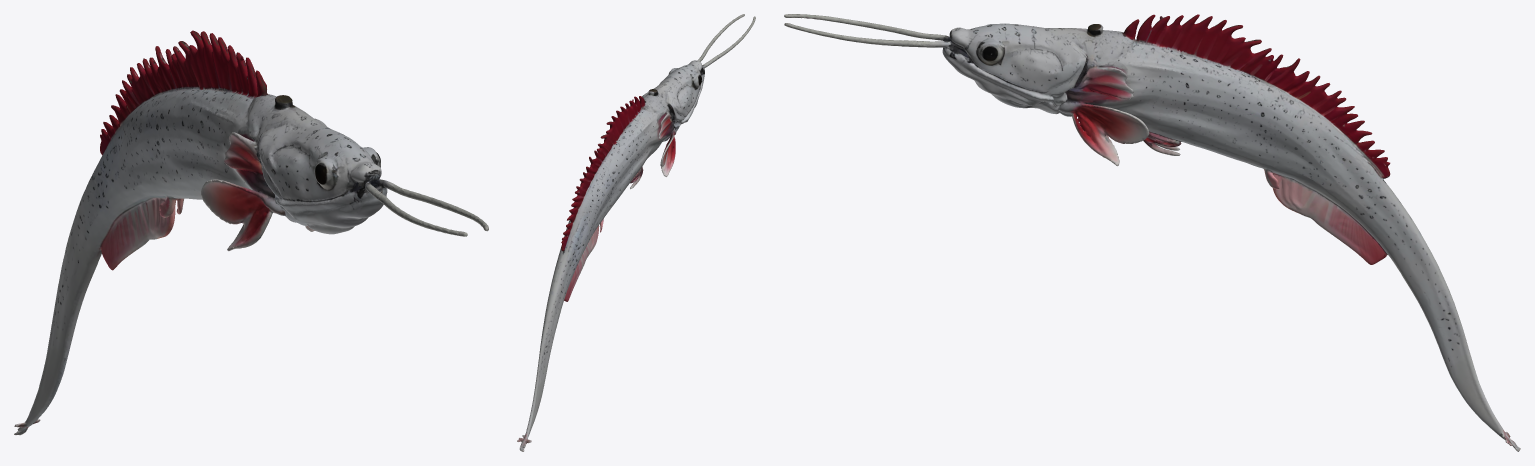
File: oarfish_g2.glb
3 renders of one model, left to right at view 1: azimuth 30°, elevation 25°; view 2: azimuth 150°, elevation 25°; view 3: azimuth 270°, elevation 25°, orthographic. The views are drawn at different scales.
Visible parts, largest first — view 1: tripo_node_5e0a08a3-59a8-4a74-969c-fd46a394b0ce; view 2: tripo_node_5e0a08a3-59a8-4a74-969c-fd46a394b0ce; view 3: tripo_node_5e0a08a3-59a8-4a74-969c-fd46a394b0ce.
Part boxes in pixels (x1=…): tripo_node_5e0a08a3-59a8-4a74-969c-fd46a394b0ce: x1=14, y1=30, x2=488, y2=435; tripo_node_5e0a08a3-59a8-4a74-969c-fd46a394b0ce: x1=517, y1=14, x2=755, y2=451; tripo_node_5e0a08a3-59a8-4a74-969c-fd46a394b0ce: x1=784, y1=14, x2=1520, y2=451.
Bounding box in the file's own units: 0.1304 × 0.6544 × 1.
1 material, 1 textured.
